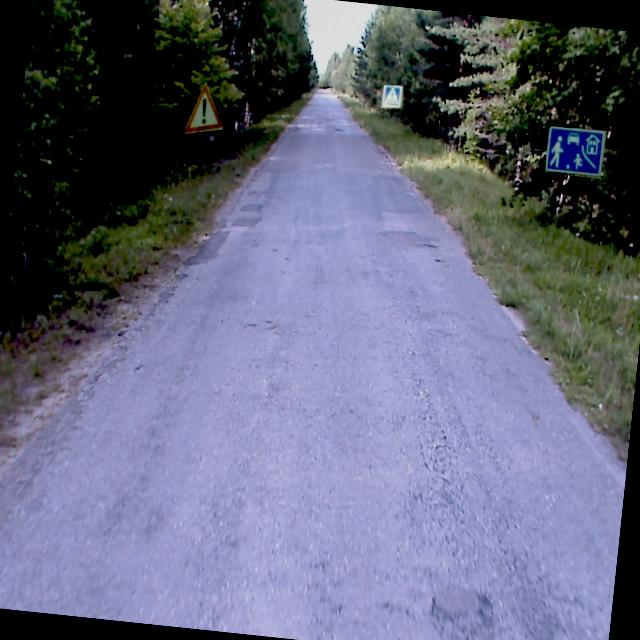road: (0, 88, 624, 640)
